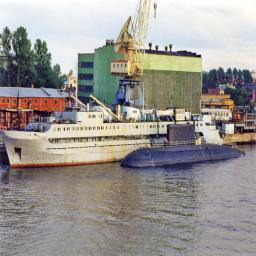submarine: (122, 123, 248, 169)
